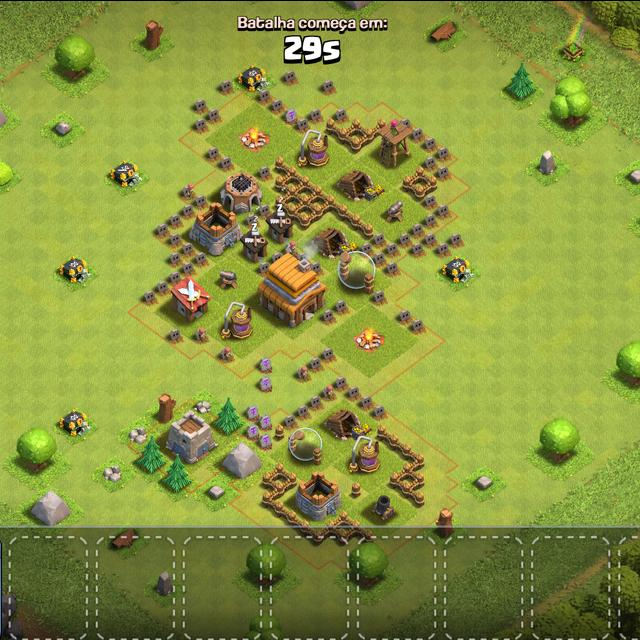Arqueira: (380, 120, 411, 166)
Canhao: (218, 267, 239, 291), (385, 200, 405, 222)
